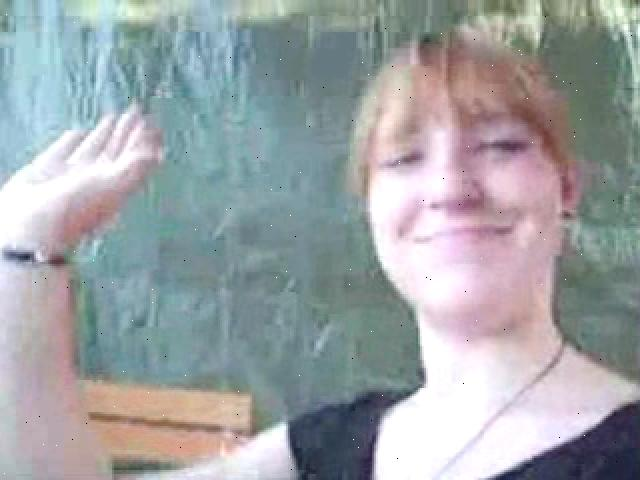T: (8, 26, 638, 476)
